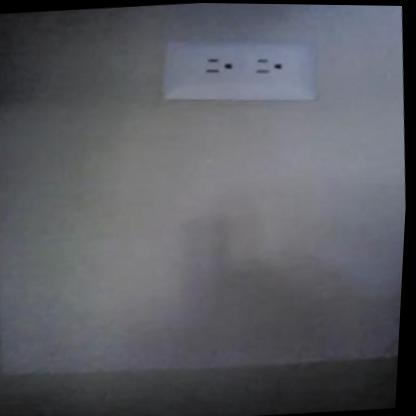OUTLET: (161, 32, 323, 112)
